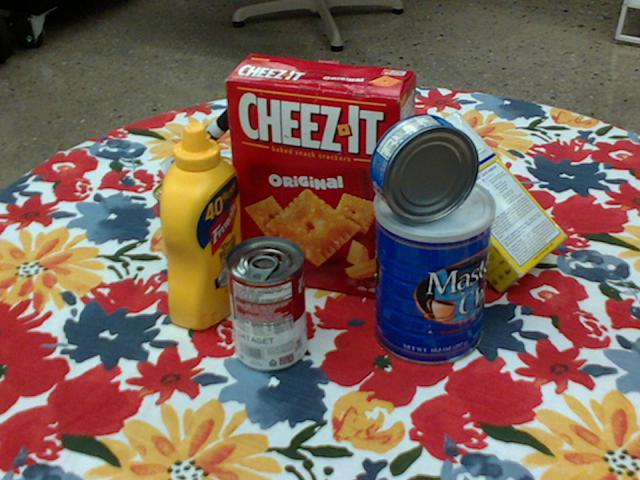cracker_box: (227, 55, 418, 296)
gelatin_box: (211, 145, 294, 216)
large_marker: (160, 104, 245, 177)
master_chef_can: (372, 175, 493, 368)
mug: (362, 131, 448, 232)
mustard_bottle: (159, 123, 243, 331)
potted_meat_can: (151, 153, 236, 270)
sugar_box: (387, 112, 567, 295)
tomato_soup_can: (224, 236, 306, 372)
tuna_fish_can: (371, 114, 480, 224)
